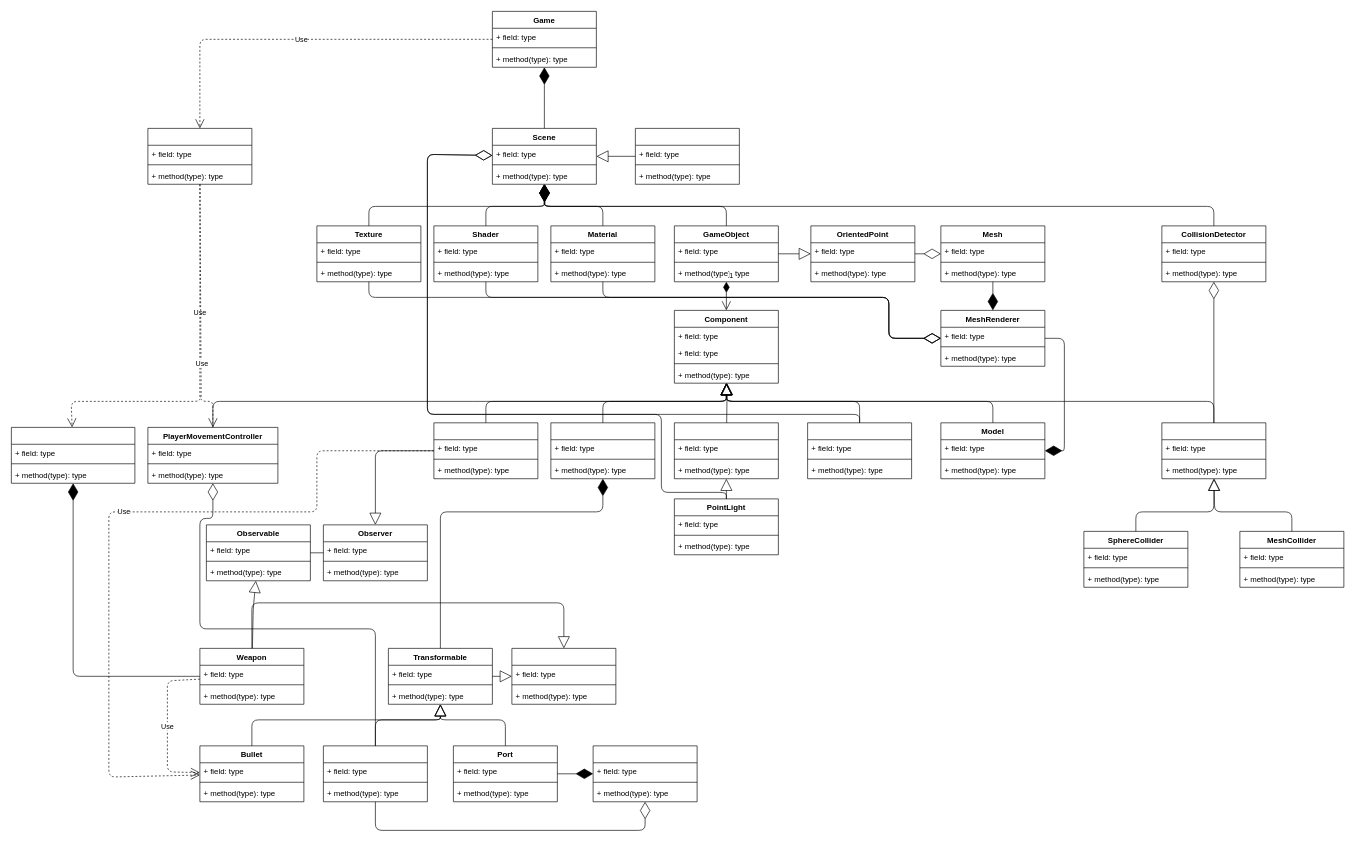
Image size: 1355x859. Some labels were removed from this diagram. Each missing label, with the box of its shape:
Camera: (807, 422, 912, 479)
Collider: (1161, 422, 1266, 479)
Input: (147, 128, 252, 184)
IUpdatable: (511, 648, 616, 704)
Light: (674, 422, 778, 479)
PlayerShootingController: (11, 427, 135, 483)
Presenter: (550, 422, 655, 479)
ShootingHandler: (433, 422, 538, 479)
SpaceScene: (635, 128, 739, 184)
Spaceship: (323, 745, 427, 802)
Spawner: (592, 745, 697, 802)
